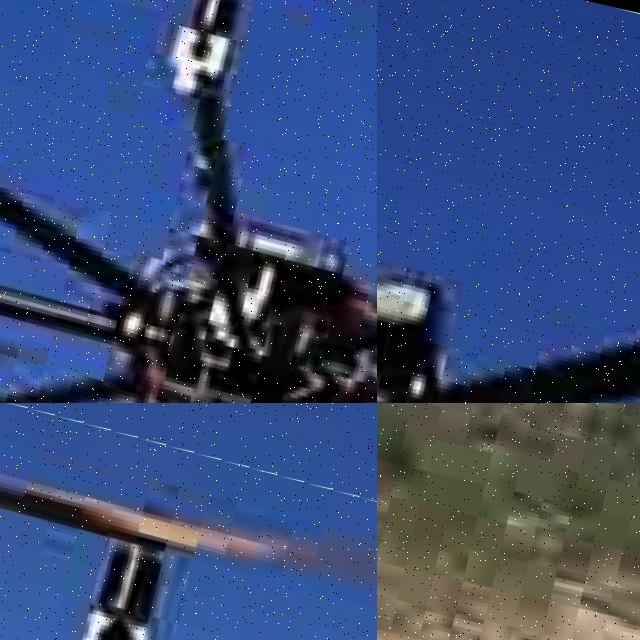drone: (0, 0, 377, 403), (377, 0, 640, 403), (0, 403, 377, 640)
